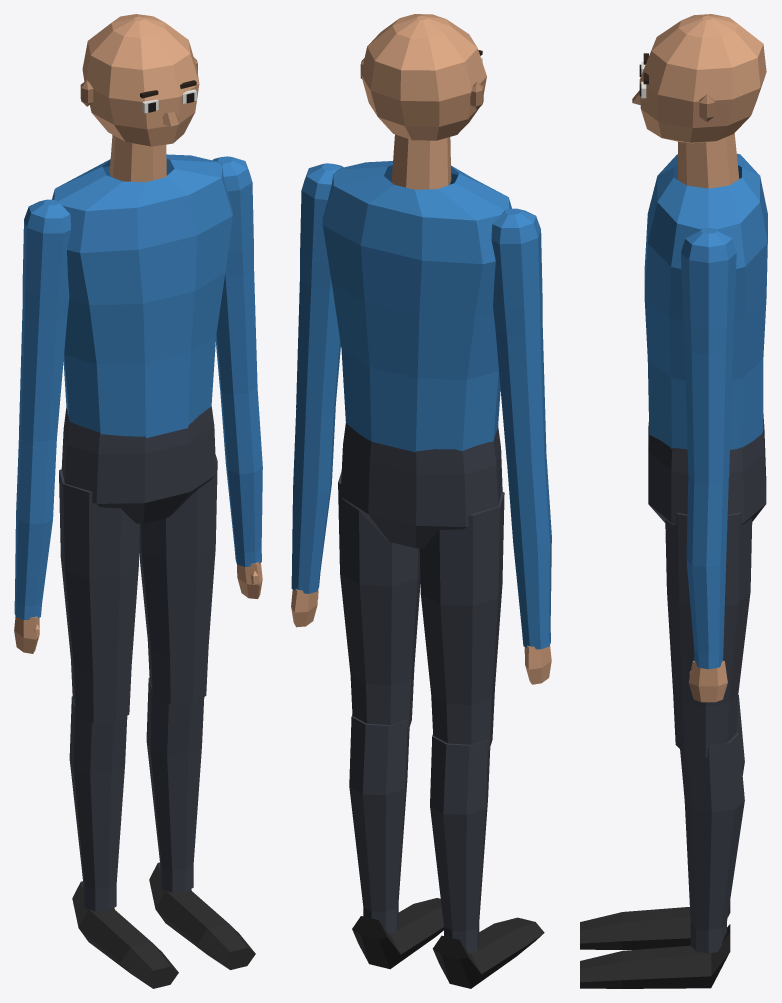
Rendered from adulte_h_mince.glb.
3 views of the same model, side by side, from view 1: azimuth 30°, elevation 25°; view 2: azimuth 150°, elevation 25°; view 3: azimuth 270°, elevation 25° (orthographic). The views are drawn at different scales.
Visible parts, largest first — view 1: torse, jambe_d, tete, jambe_g, tibia_d, tibia_g, bassin, bras_d, bras_g, avant_bras_d, avant_bras_g; view 2: torse, jambe_d, tete, jambe_g, tibia_d, tibia_g, bassin, bras_d, bras_g, avant_bras_d, avant_bras_g; view 3: torse, tete, tibia_g, bras_g, jambe_g, avant_bras_g, bassin, tibia_d.
Boxes of the visible parts, x1,y1,x2,y2 form: torse: (52, 154, 232, 438); jambe_d: (59, 469, 139, 723); tete: (80, 14, 199, 182); jambe_g: (139, 454, 217, 704); tibia_d: (69, 696, 178, 988); tibia_g: (146, 677, 255, 969); bassin: (61, 407, 216, 523); bras_d: (19, 199, 70, 443); bras_g: (212, 156, 257, 395); avant_bras_d: (14, 436, 56, 653); avant_bras_g: (220, 387, 262, 598); torse: (322, 161, 511, 452); jambe_d: (419, 491, 504, 749); tete: (360, 14, 486, 189); jambe_g: (338, 471, 420, 730); tibia_d: (430, 734, 544, 988); tibia_g: (349, 715, 443, 969); bassin: (340, 423, 502, 548); bras_d: (491, 208, 546, 465); bras_g: (296, 163, 343, 415); avant_bras_d: (507, 454, 551, 684); avant_bras_g: (291, 404, 335, 627); torse: (644, 153, 767, 449); tete: (632, 14, 766, 188); tibia_g: (580, 732, 744, 988); bras_g: (681, 228, 736, 485); jambe_g: (665, 512, 752, 757); avant_bras_g: (686, 474, 728, 702); bassin: (648, 414, 766, 525); tibia_d: (580, 695, 744, 949).
Bounding box in the file's own units: 0.4872 × 1.74 × 0.3123.
Materials: 1 (1 with a texture image).
